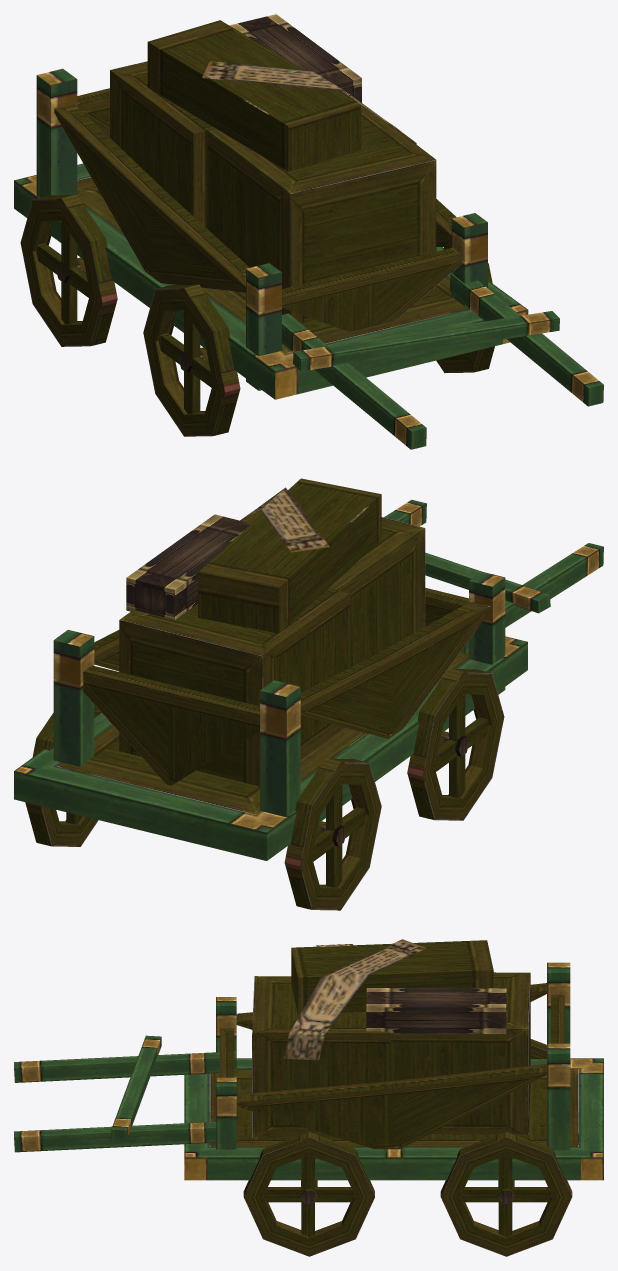
File: Yland1_fz_07 Yland4.FBX
The picture shows the model from 3 angles, top to bottom: view 1: azimuth 30°, elevation 25°; view 2: azimuth 150°, elevation 25°; view 3: azimuth 270°, elevation 25°; orthographic projection. The views are drawn at different scales.
Visible parts, largest first — view 1: Yland1_fz_07 Yland4; view 2: Yland1_fz_07 Yland4; view 3: Yland1_fz_07 Yland4.
Boxes of the visible parts, left/top/right/bottom form: Yland1_fz_07 Yland4: left=14, top=14, right=603, bottom=449; Yland1_fz_07 Yland4: left=14, top=478, right=603, bottom=910; Yland1_fz_07 Yland4: left=14, top=939, right=603, bottom=1256.
Bounding box in the file's own units: 2.56 × 2.63 × 5.88.
